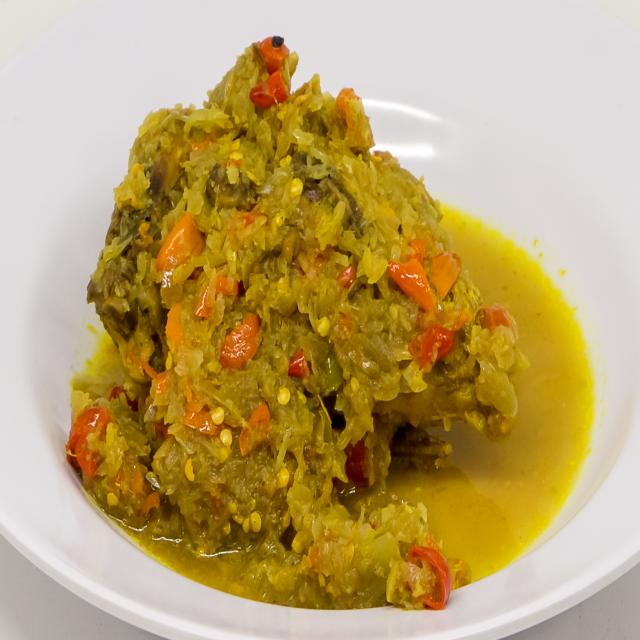Ayam-Betutu: (61, 13, 531, 611)
